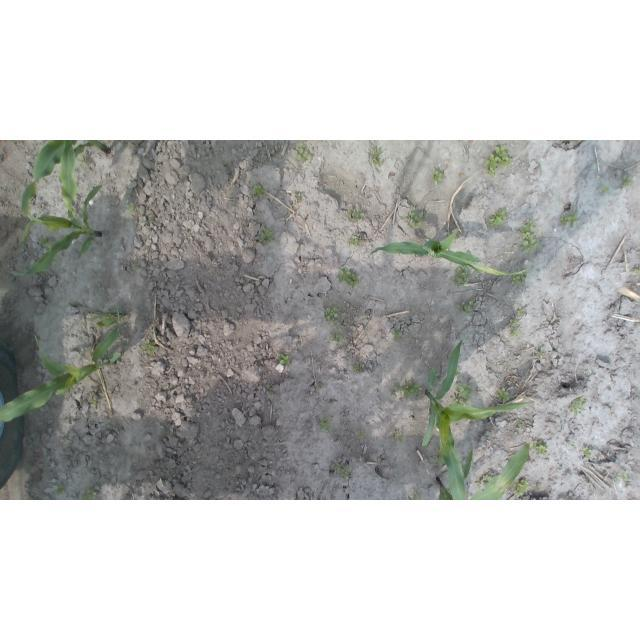Maize: (418, 340, 539, 500), (0, 302, 124, 423), (8, 183, 105, 282), (369, 229, 532, 279), (31, 140, 111, 220), (433, 444, 531, 500)
Weeds: (486, 145, 512, 175), (509, 308, 527, 337), (523, 224, 539, 251), (393, 384, 420, 398), (403, 210, 423, 228), (339, 268, 357, 286), (258, 227, 275, 246), (455, 383, 471, 402), (488, 211, 507, 227), (570, 395, 586, 413), (294, 145, 312, 160), (333, 467, 353, 480), (516, 480, 529, 499), (455, 268, 469, 285), (370, 147, 383, 165), (141, 340, 157, 354), (563, 212, 579, 226), (324, 308, 339, 322), (349, 208, 365, 221), (434, 168, 445, 186), (460, 302, 473, 315), (513, 272, 527, 284), (330, 331, 342, 344), (79, 151, 89, 166), (82, 490, 98, 499), (621, 178, 636, 187), (498, 389, 510, 400), (350, 236, 362, 247), (279, 354, 289, 366), (537, 445, 548, 455), (393, 329, 405, 338), (320, 419, 332, 428), (395, 432, 406, 441), (619, 472, 628, 483), (253, 185, 262, 195), (57, 484, 65, 495), (357, 430, 368, 438), (38, 236, 50, 243), (599, 185, 609, 192), (127, 202, 134, 212), (583, 447, 591, 455), (132, 263, 141, 270), (354, 365, 364, 371), (569, 440, 576, 447), (634, 269, 640, 276)
